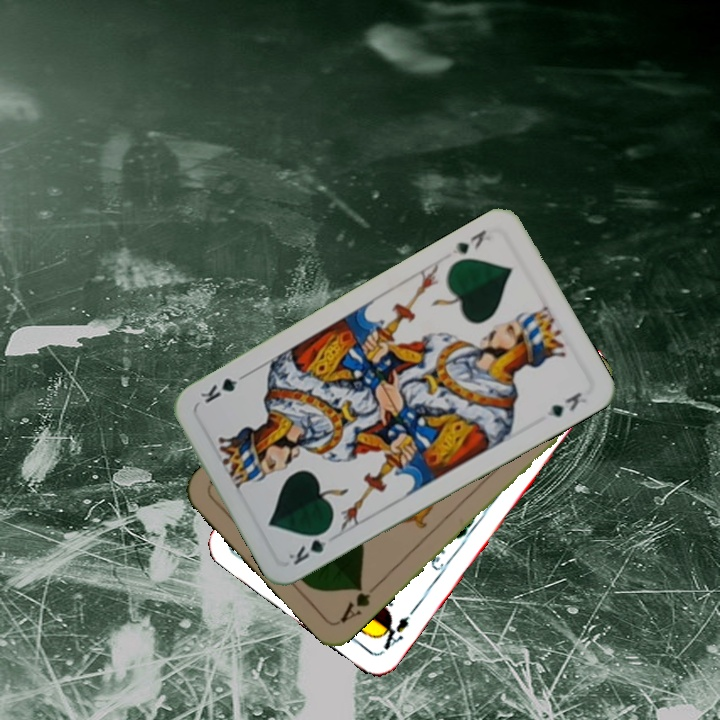EA: (374, 611, 412, 653)
GA: (336, 581, 373, 626)
GK: (284, 524, 333, 568), (448, 225, 489, 257)
